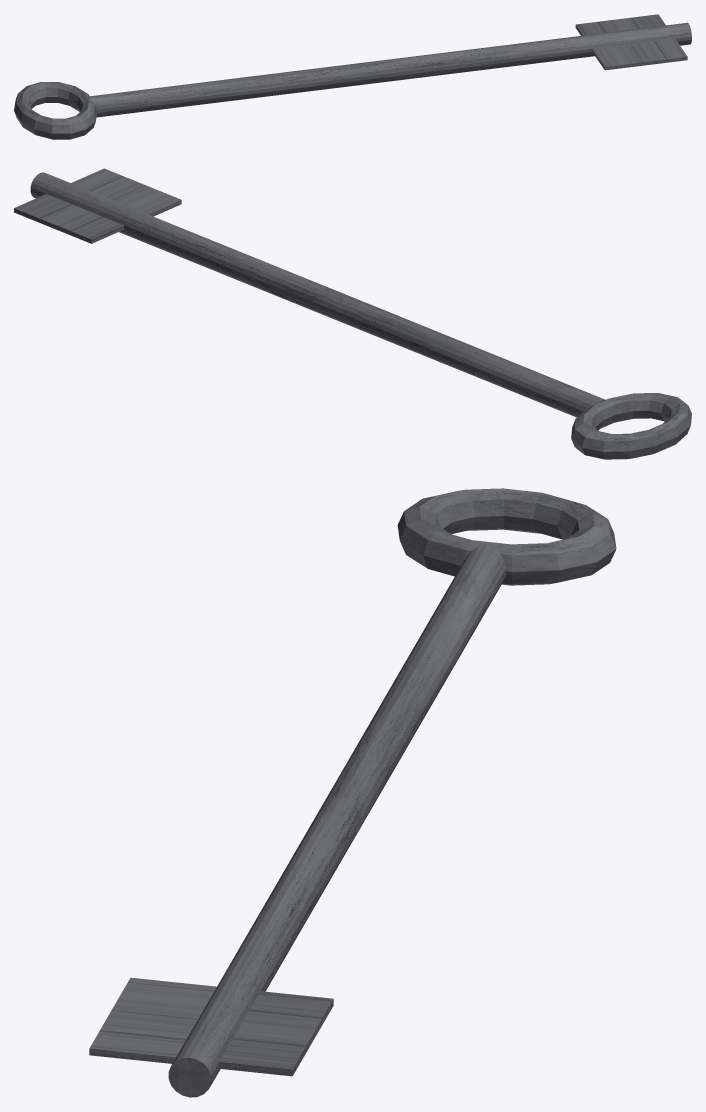
Rendered from key.fbx.
3 renders of one model, top to bottom at view 1: azimuth 30°, elevation 25°; view 2: azimuth 150°, elevation 25°; view 3: azimuth 270°, elevation 25°, orthographic. The views are drawn at different scales.
Parts seen in each view (by area): view 1: key; view 2: key; view 3: key.
Part boxes in pixels (left/top/right/bottom): key: left=14, top=14, right=691, bottom=139; key: left=14, top=168, right=691, bottom=459; key: left=89, top=488, right=616, bottom=1097.
Bounding box in the file's own units: 24.1 × 0.8093 × 9.29.
Materials: 1 (1 with a texture image).
